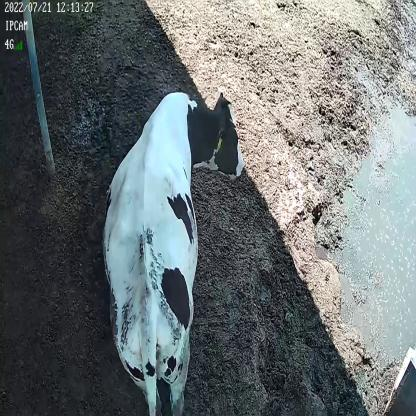cow: (101, 89, 247, 416)
